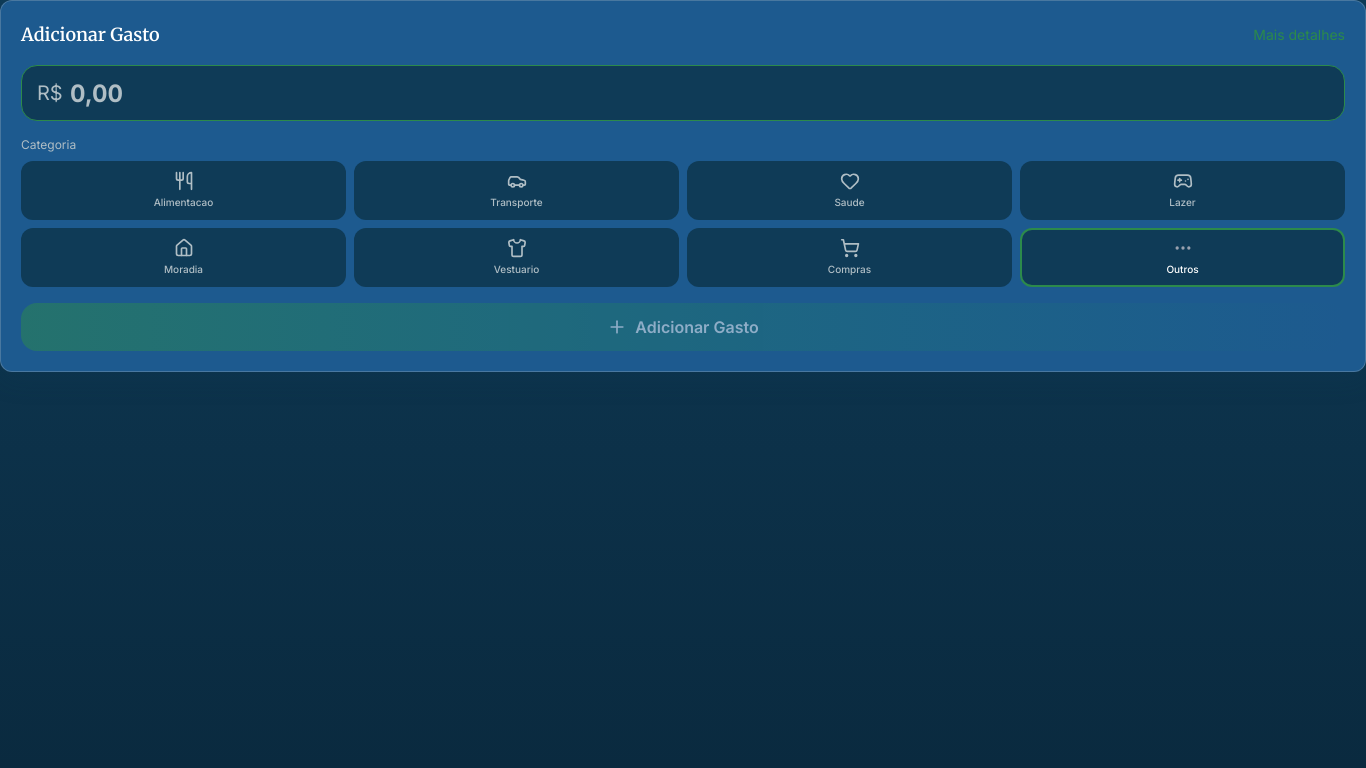
Test: logging an expense from another day › should warn that the entry is retroactive
What coordinates should you click on to do the following:
click the button "Mais detalhes"
I would click on:
 (1299, 35)
Its box is [1253,25,1345,45].
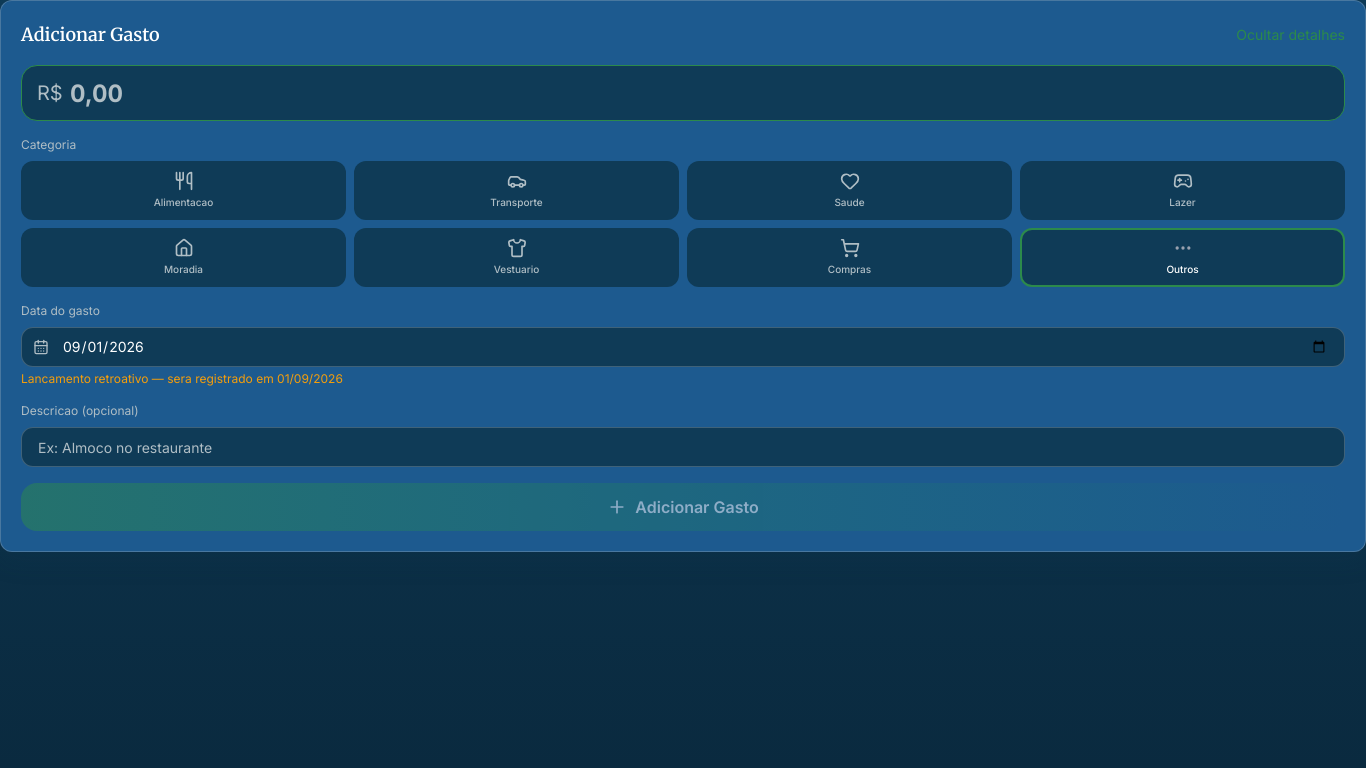
Expected: the text "Lancamento retroativo — sera registrado em 01/09/2026" is shown, [21,371,343,386]
